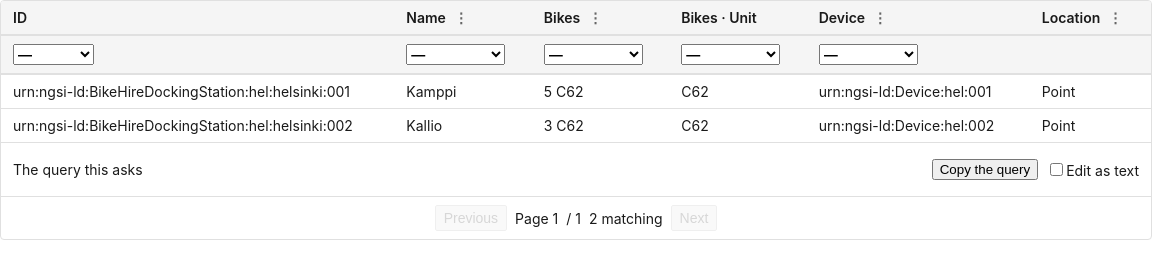
Test: EntityGrid › the filter row › asks the id column by pattern rather than by a term of the query
This screenshot has width=1152, height=259.
Expected: the text "Kamppi" is shown, [394, 74, 532, 108]
Select "matches" in the dropdown named "Filter: ID" at {"x": 54, "y": 54}, box [13, 44, 94, 65]
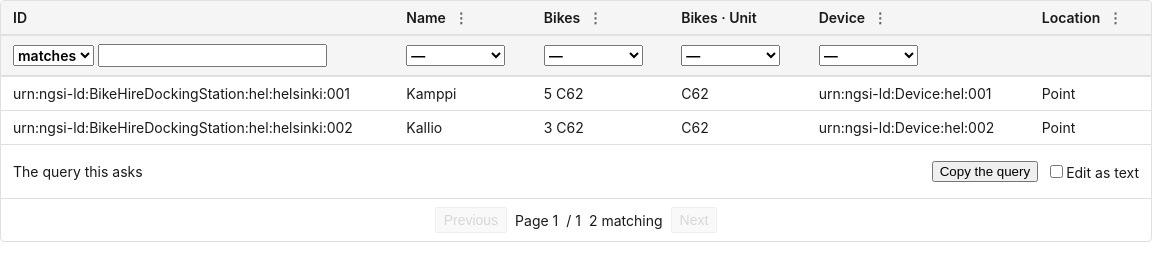
Type "helsinki:002" into the field named "Value: ID" at {"x": 212, "y": 56}, box [98, 44, 327, 67]
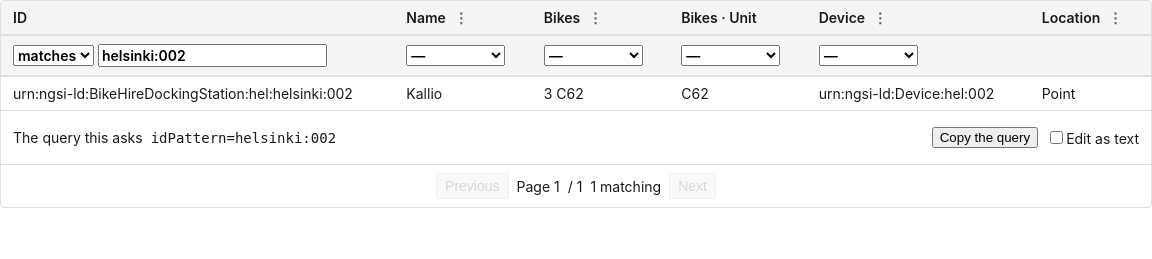
Expected: the text "Kallio" is shown, [394, 76, 532, 110]
Result: the text "Kamppi" is gone
